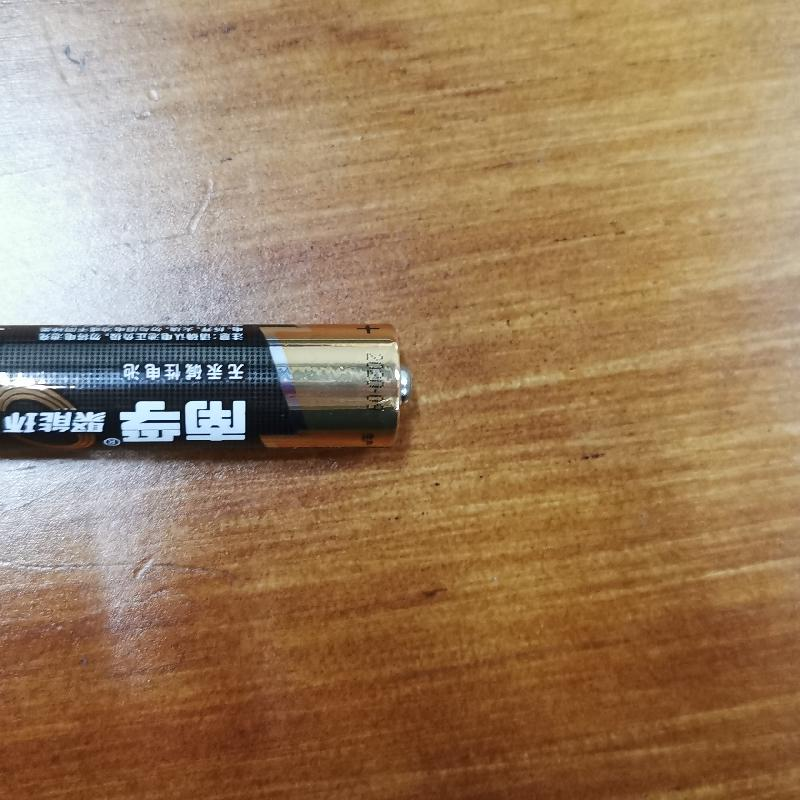battery: (2, 316, 414, 468)
